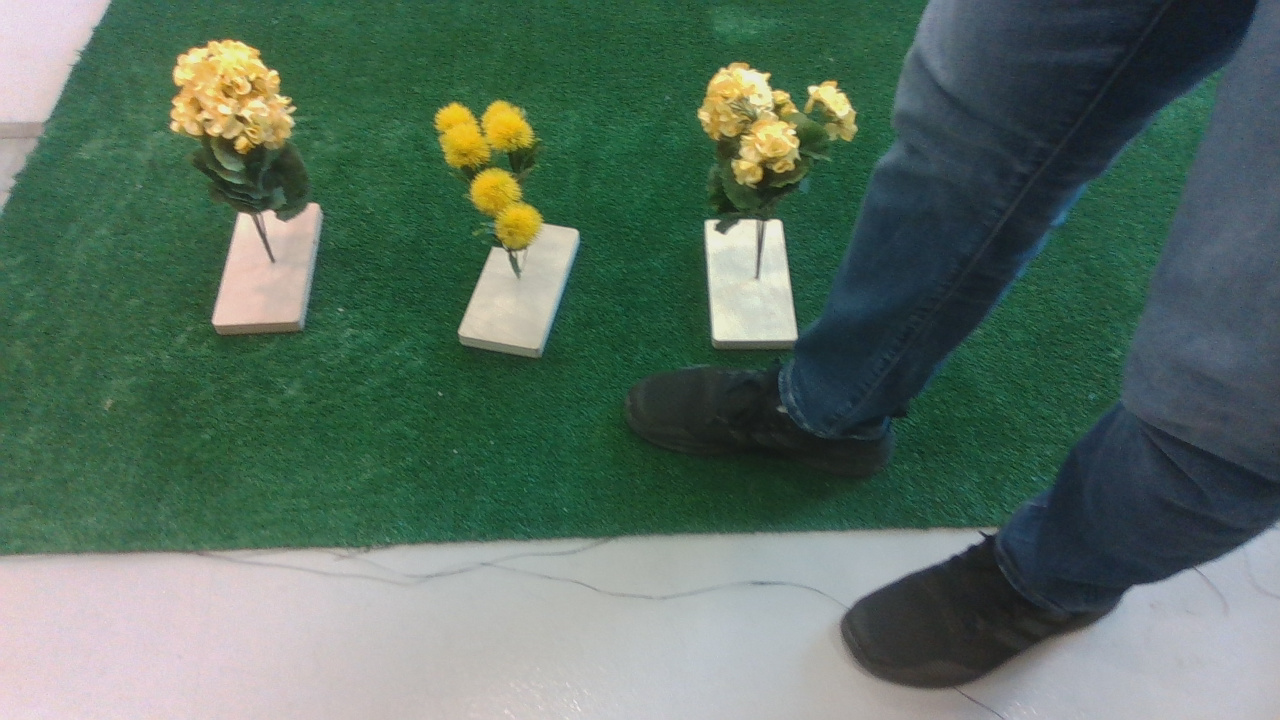dandelion: (423, 94, 571, 261)
geranium: (681, 45, 863, 231), (152, 33, 328, 218)
